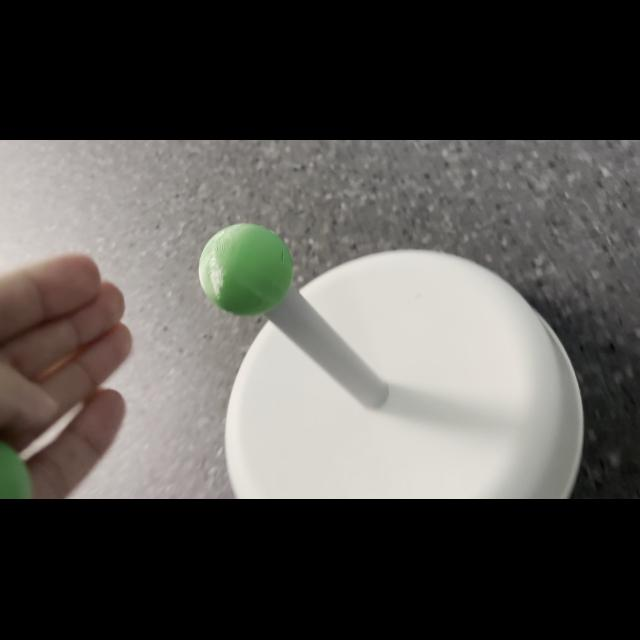objects: (195, 216, 299, 320)
